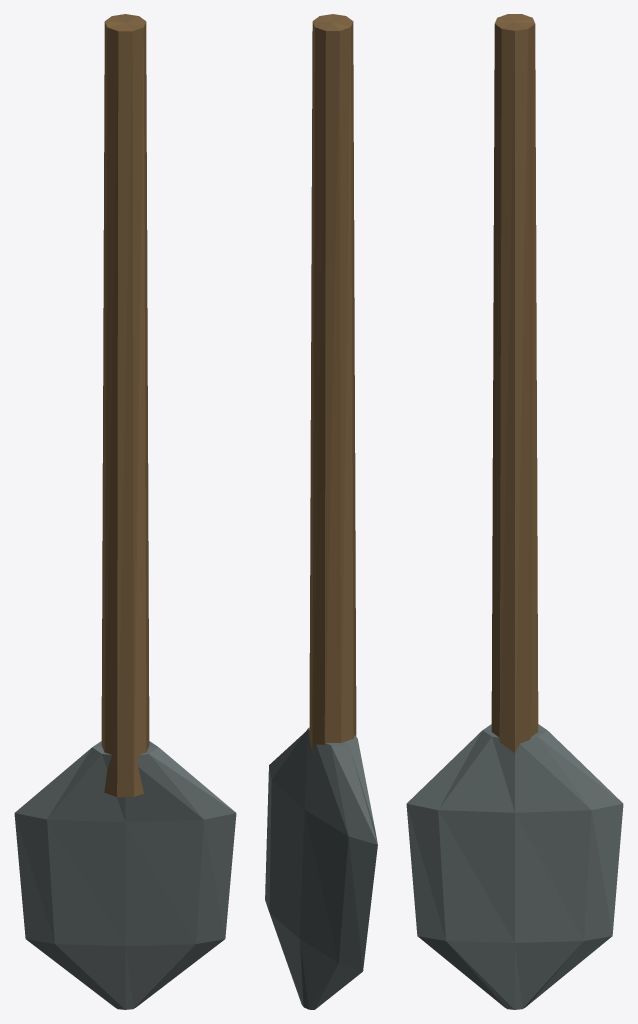
Rendered from Shovel.glb.
The picture shows the model from 3 angles, left to right: view 1: azimuth 90°, elevation 25°; view 2: azimuth 210°, elevation 25°; view 3: azimuth 270°, elevation 25°; orthographic projection. The views are drawn at different scales.
Visible parts, largest first — view 1: Shovel; view 2: Shovel; view 3: Shovel.
Part boxes in pixels (bbox=[...]): Shovel: bbox=[14, 14, 236, 1009]; Shovel: bbox=[265, 14, 377, 1009]; Shovel: bbox=[406, 14, 623, 1009].
Bounding box in the file's own units: 0.0557 × 0.99 × 0.2.
